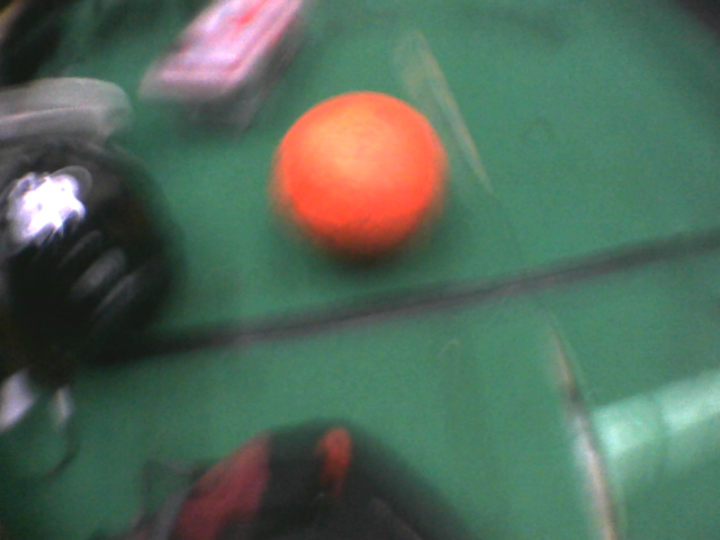bola: (266, 84, 462, 269)
